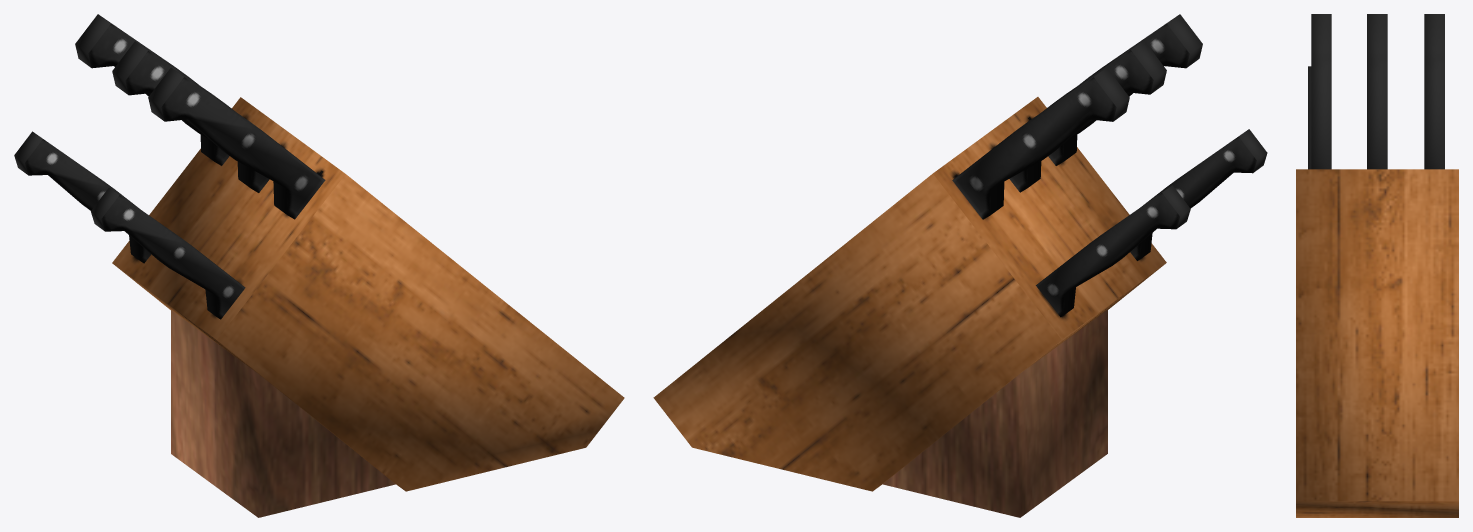
The model's file is KnifeHolder.fbx.
The picture shows the model from 3 angles, left to right: view 1: azimuth 30°, elevation 25°; view 2: azimuth 150°, elevation 25°; view 3: azimuth 270°, elevation 25°; orthographic projection. The views are drawn at different scales.
Visible parts, largest first — view 1: knife _holder.001; view 2: knife _holder.001; view 3: knife _holder.001.
Boxes of the visible parts, box(x1,y1,x2,y2) form: knife _holder.001: box(14, 14, 624, 517); knife _holder.001: box(653, 14, 1267, 517); knife _holder.001: box(1296, 14, 1458, 517).
Bounding box in the file's own units: 43.9 × 37.33 × 15.49.
